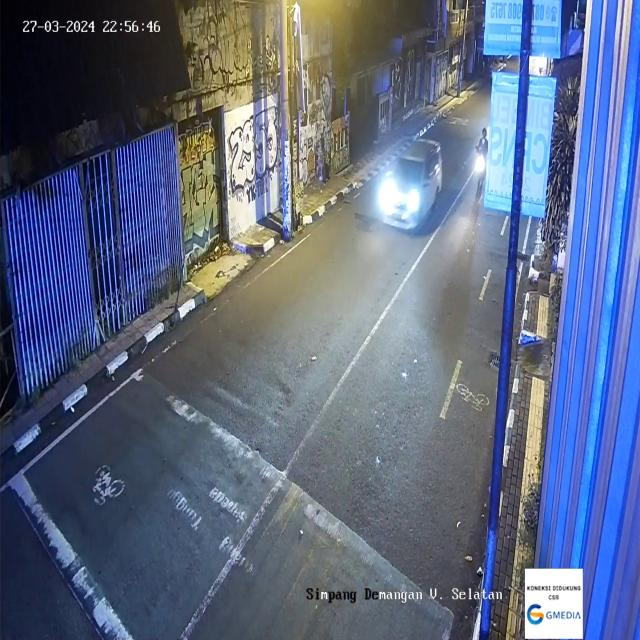car: (378, 136, 445, 228)
motorcycle: (474, 124, 492, 192)
